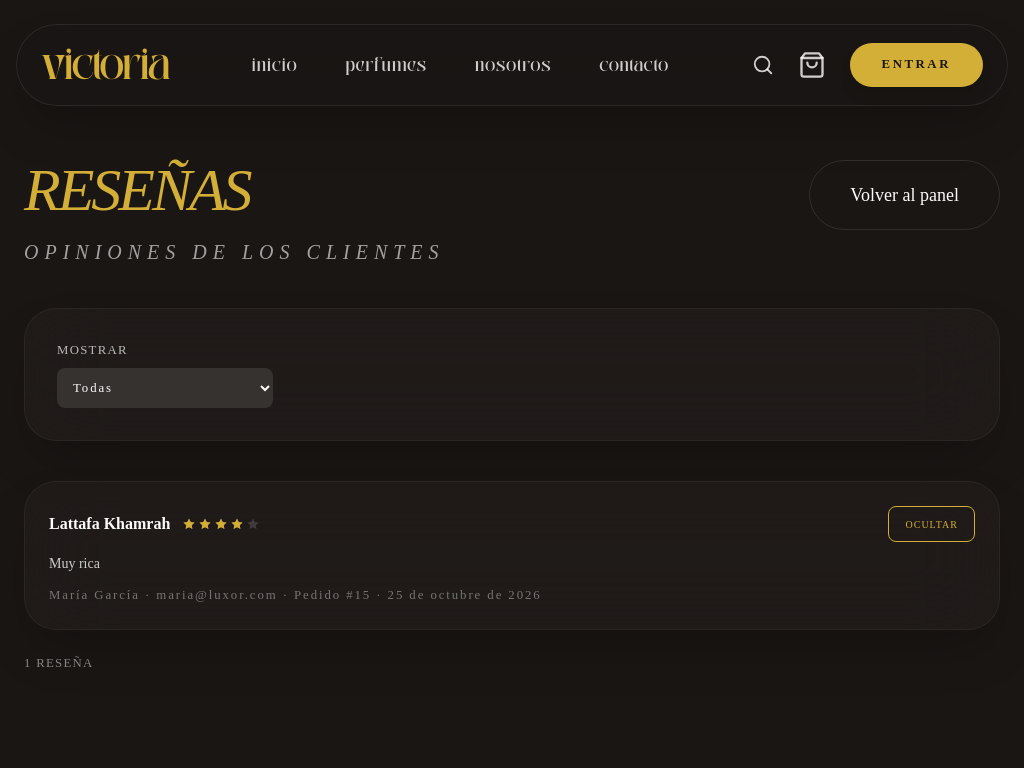
panel: reseñas › oculta una reseña y muestra el promedio nuevo del perfume
Click the button "Ocultar" at (932, 524), box [888,506,975,542]
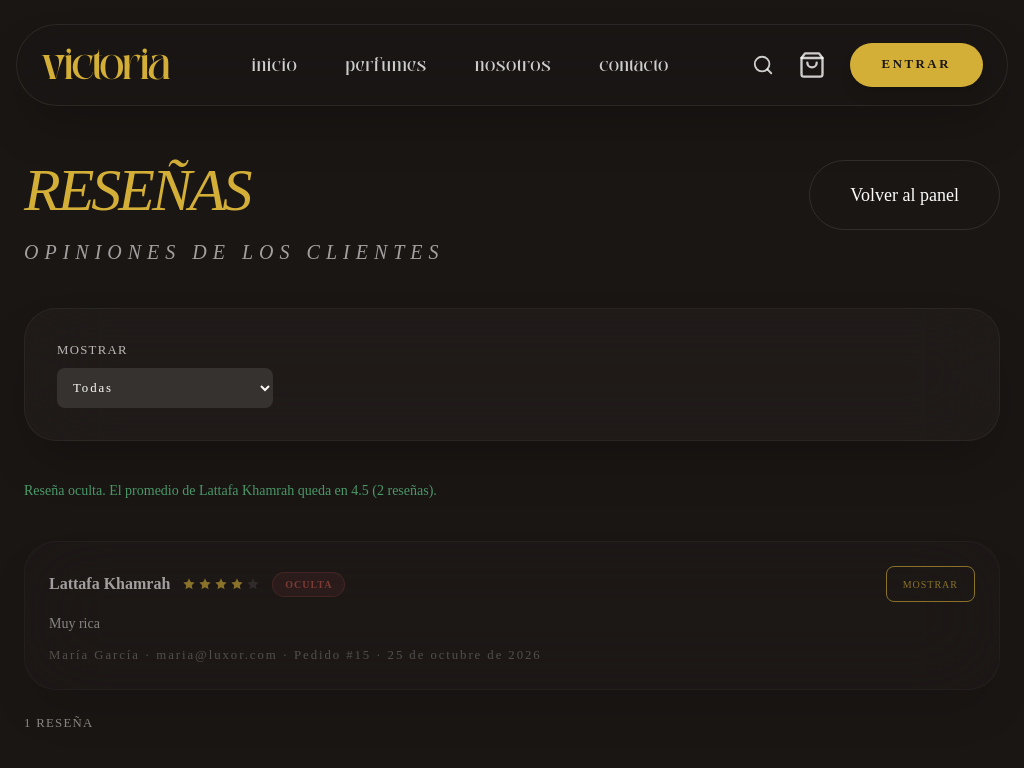
Check: the message reads "Reseña oculta. El promedio de Lattafa Khamrah queda en 4.5 (2 reseñas).", box [24,483,437,498]
Check: the text "Oculta" is shown, box [272,572,345,597]
Check: the button "Mostrar" is shown, box [886,566,975,602]
